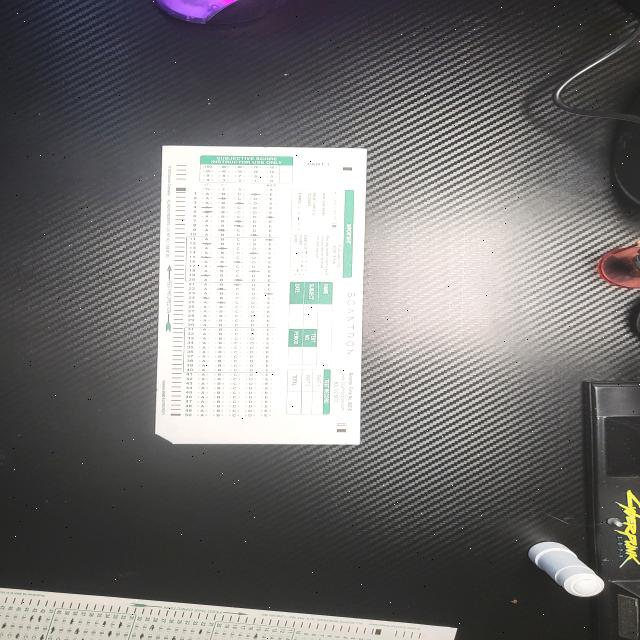scantron: (155, 145, 367, 445)
